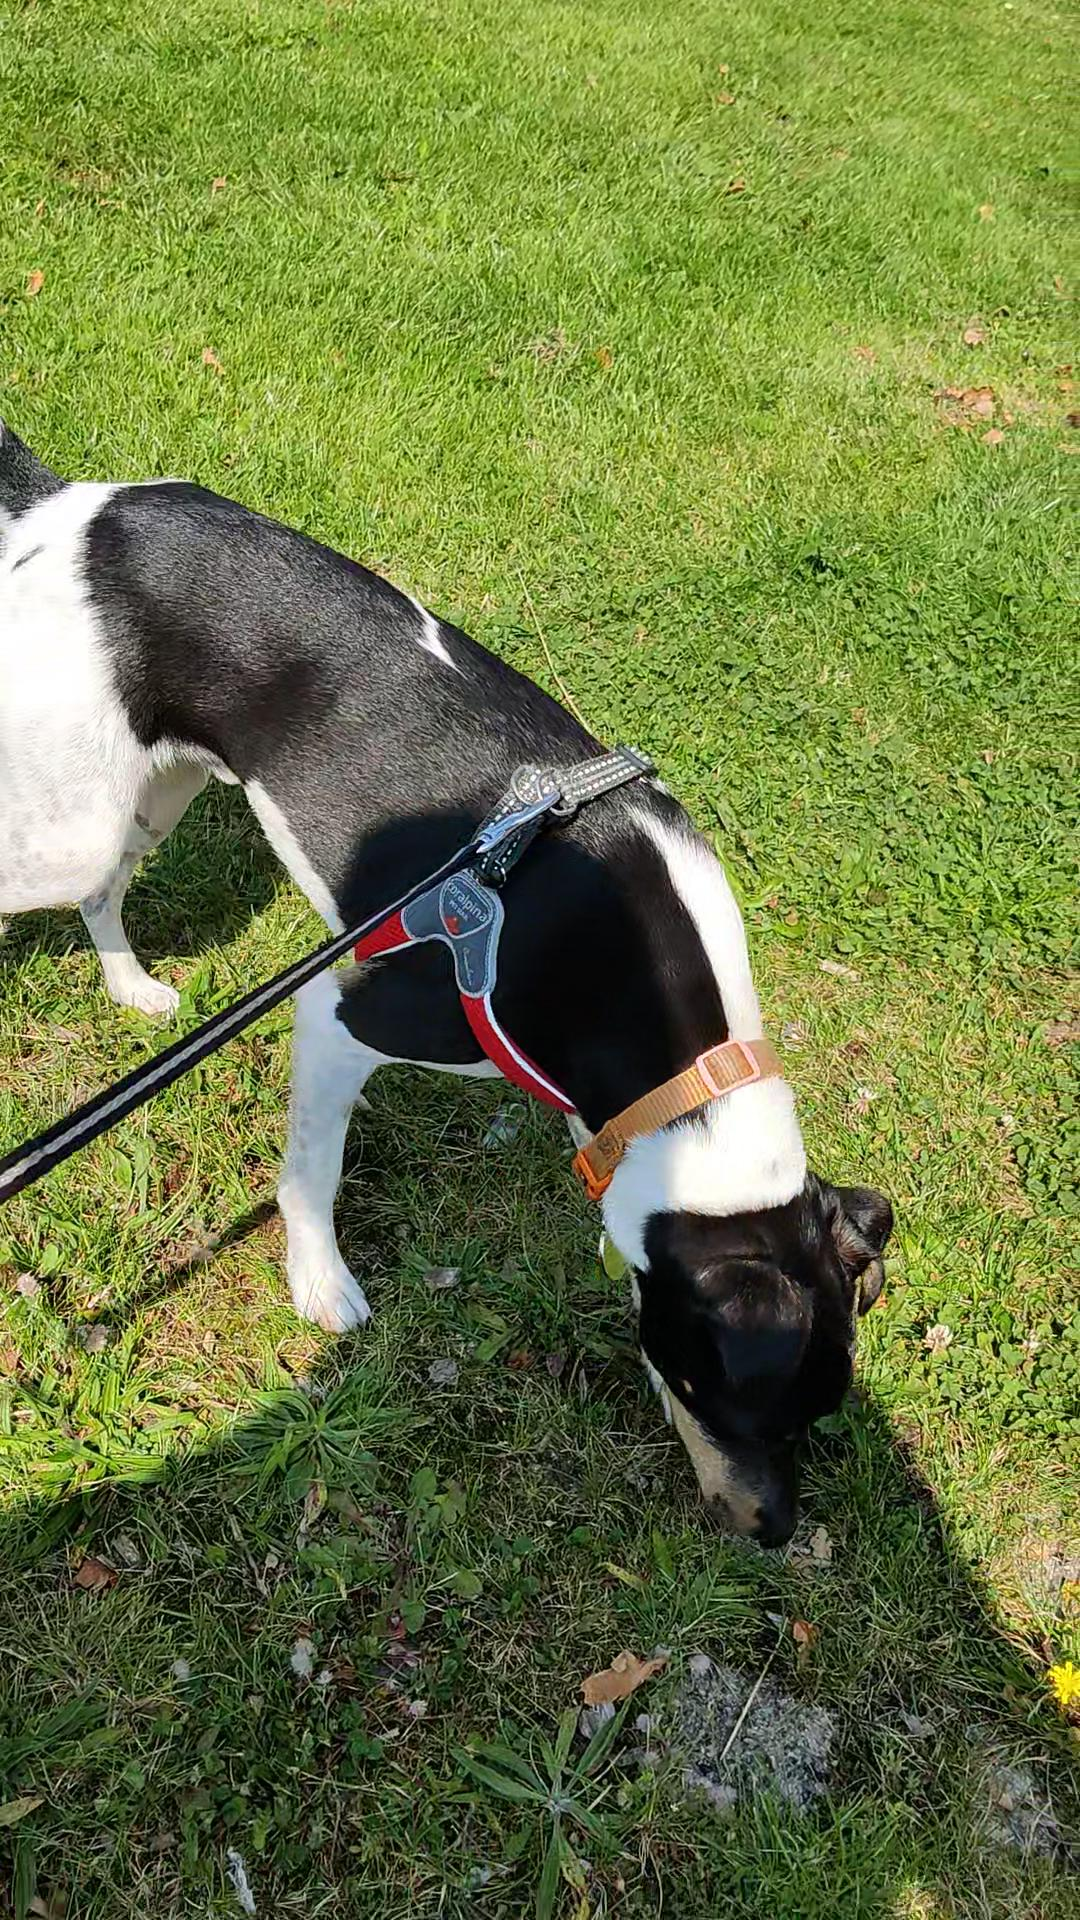Dog: (0, 407, 913, 1549)
